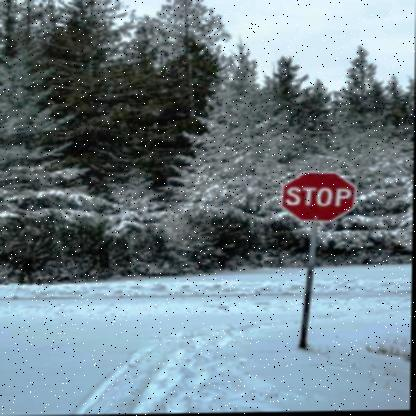Stop Sign: (281, 168, 359, 224)
